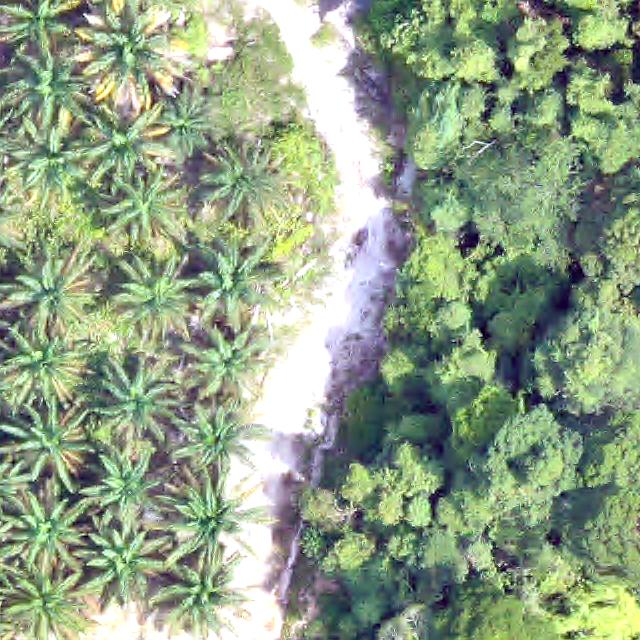oilpalm: (78, 3, 178, 98), (153, 548, 252, 637), (6, 239, 95, 336), (185, 226, 274, 322), (80, 440, 170, 531), (87, 353, 176, 443), (168, 466, 254, 551), (0, 484, 85, 569), (200, 138, 288, 219), (183, 315, 262, 405), (108, 253, 192, 334), (0, 401, 87, 478), (6, 119, 90, 198), (82, 523, 166, 600), (1, 327, 81, 406), (172, 400, 253, 478), (97, 170, 178, 247), (0, 569, 85, 640), (3, 42, 81, 114), (83, 110, 162, 181), (152, 84, 219, 159)
